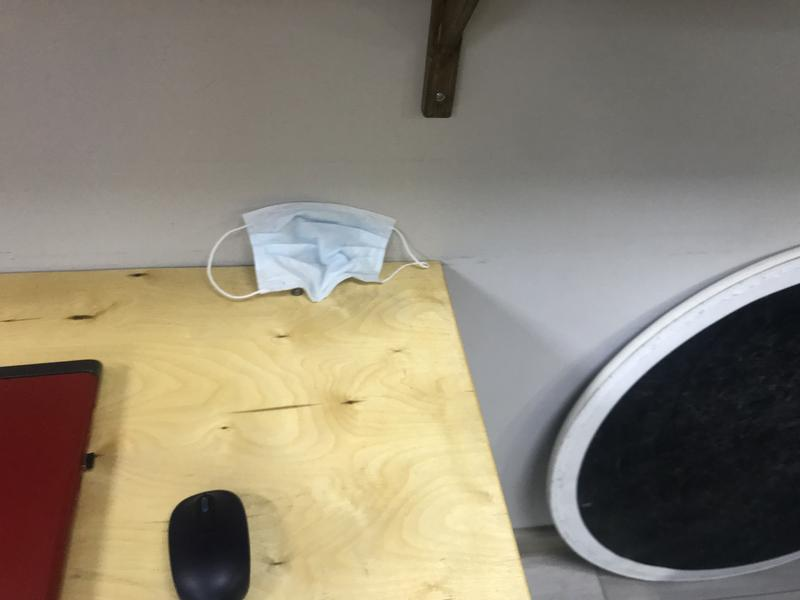medical_mask: (206, 202, 429, 305)
